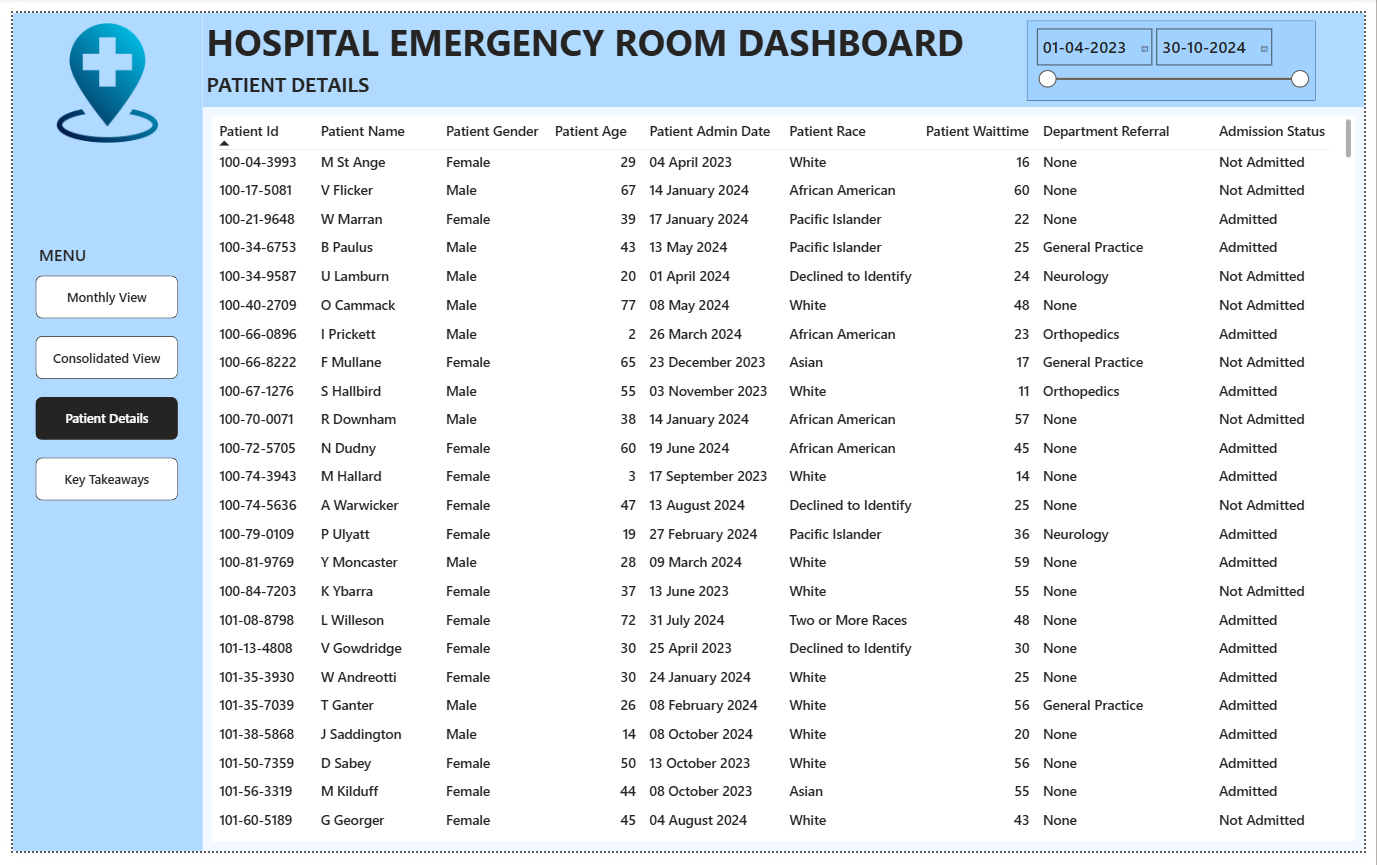

This screenshot's page, from the dashboard's own definition file:
{"tool":"powerbi","page":{"name":"Patient Details","canvas":[1983,1230],"ordinal":2},"visuals":[{"type":"shape","box":[0,0,278.2,1230.9],"z":0},{"type":"shape","box":[278.2,0,1705.5,138.2],"z":1000},{"type":"textbox","box":[278.9,0,1252.4,94.2],"z":2000},{"type":"textbox","box":[278.9,80.7,326.6,56.9],"z":3000},{"type":"slicer","fields":{"Values":["Date Table.Date"]},"box":[1487.9,11,423.8,117.4],"z":4000},{"type":"image","box":[20.2,14.7,236.7,176.1],"z":5000},{"type":"tableEx","fields":{"Values":["Hospital ER_Data.Patient Id","Hospital ER_Data.Patient Full Name","Hospital ER_Data.Patient Gender","Sum(Hospital ER_Data.Patient Age)","Hospital ER_Data.Patient Admin Date ","Hospital ER_Data.Patient Race","Sum(Hospital ER_Data.Patient Waittime)","Hospital ER_Data.Department Referral","Hospital ER_Data.Admission Status"]},"box":[290.9,150.9,1678.2,1065.5],"z":6000},{"type":"pageNavigator","box":[32.7,385.5,209.1,330.9],"z":7000},{"type":"textbox","box":[32.7,334.5,110.9,50.9],"z":8000}]}

Visuals, with their boxes in screenshot pixels (x1, y1, x2, y2), scaled from the page's 1983x1230 canvas onto the 1377x865 screenshot:
shape: pyautogui.locateOnScreen(0, 0, 193, 864)
shape: pyautogui.locateOnScreen(193, 0, 1376, 97)
textbox: pyautogui.locateOnScreen(194, 0, 1063, 66)
textbox: pyautogui.locateOnScreen(194, 57, 420, 97)
slicer - Date Table.Date: pyautogui.locateOnScreen(1033, 8, 1327, 90)
image: pyautogui.locateOnScreen(14, 10, 178, 134)
tableEx - Hospital ER_Data.Patient Id x Hospital ER_Data.Patient Full Name: pyautogui.locateOnScreen(202, 106, 1367, 855)
pageNavigator: pyautogui.locateOnScreen(23, 271, 168, 504)
textbox: pyautogui.locateOnScreen(23, 235, 100, 271)
